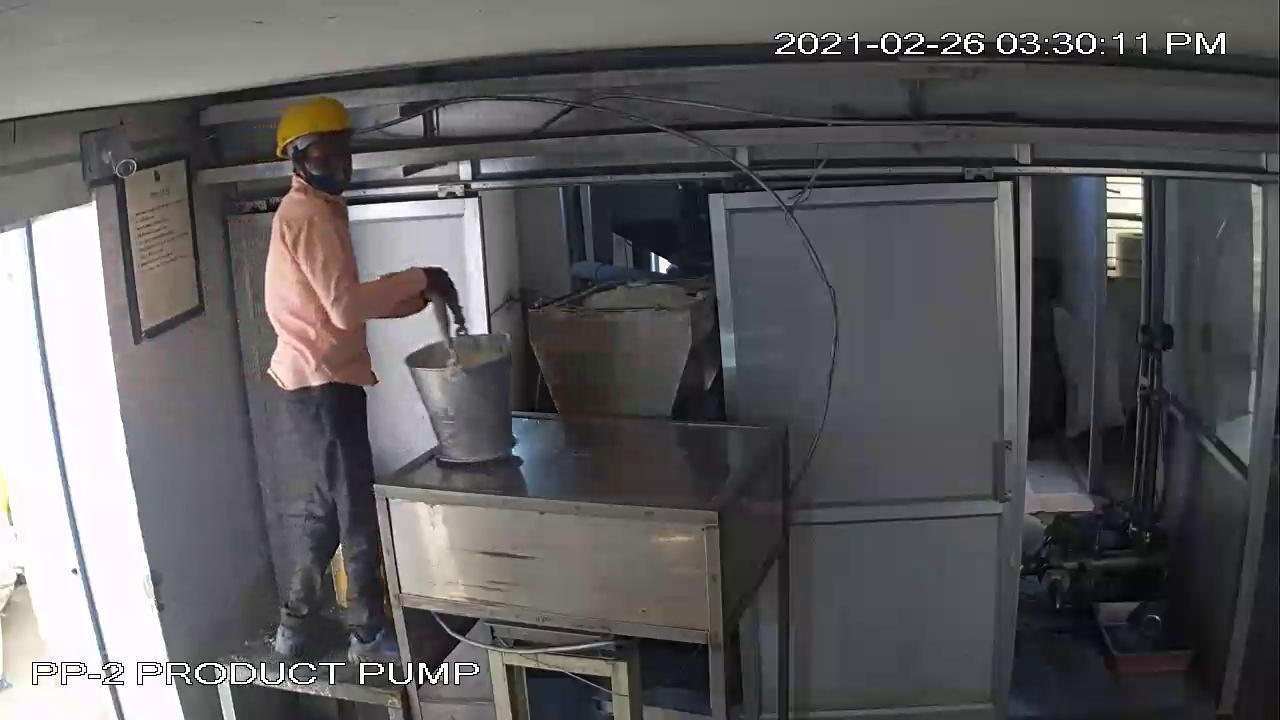helmet: (261, 94, 372, 190)
